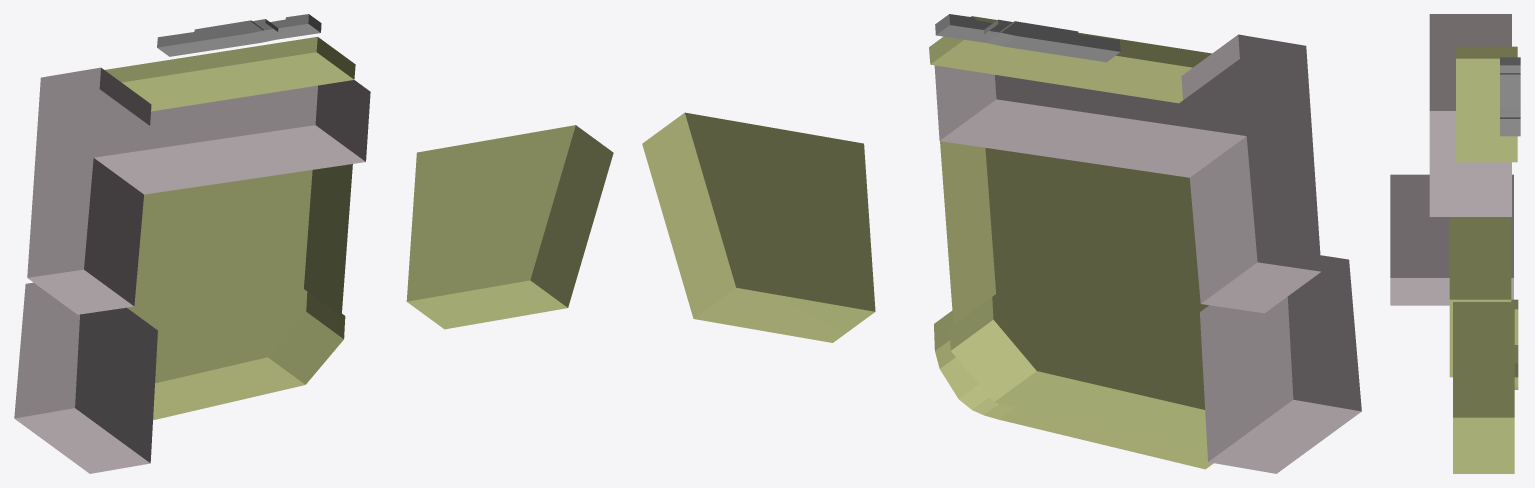
The picture shows the model from 3 angles, left to right: view 1: azimuth 30°, elevation 25°; view 2: azimuth 150°, elevation 25°; view 3: azimuth 270°, elevation 25°; orthographic projection. The views are drawn at different scales.
Visible parts, largest first — view 1: 0_2_1_3_0_3_1_0; view 2: 0_2_1_3_0_3_1_0; view 3: 0_2_1_3_0_3_1_0.
Boxes of the visible parts, x1=… form: 0_2_1_3_0_3_1_0: x1=14, y1=14, x2=613, y2=473; 0_2_1_3_0_3_1_0: x1=642, y1=14, x2=1361, y2=473; 0_2_1_3_0_3_1_0: x1=1390, y1=14, x2=1520, y2=473.
Bounding box in the file's own units: 77.18 × 46.15 × 18.96.
